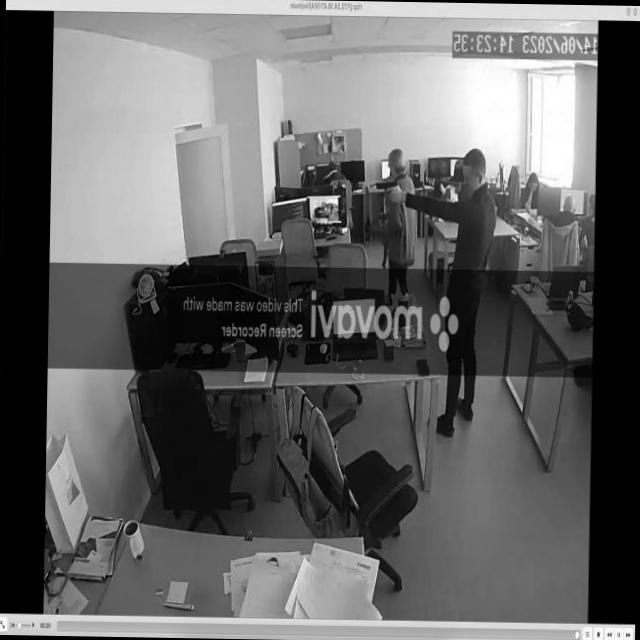gun: (373, 178, 398, 200)
person: (382, 144, 421, 298)
person with a gun: (369, 154, 498, 442)
